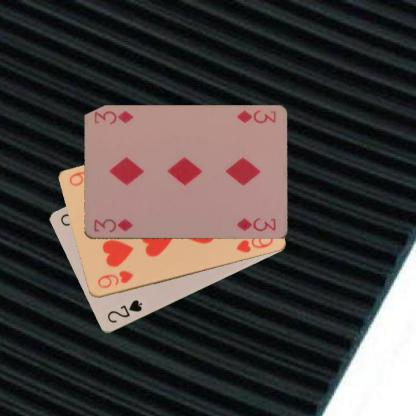2s: (105, 297, 143, 325)
3d: (90, 216, 134, 234), (234, 108, 277, 126)
9h: (95, 268, 134, 290)
